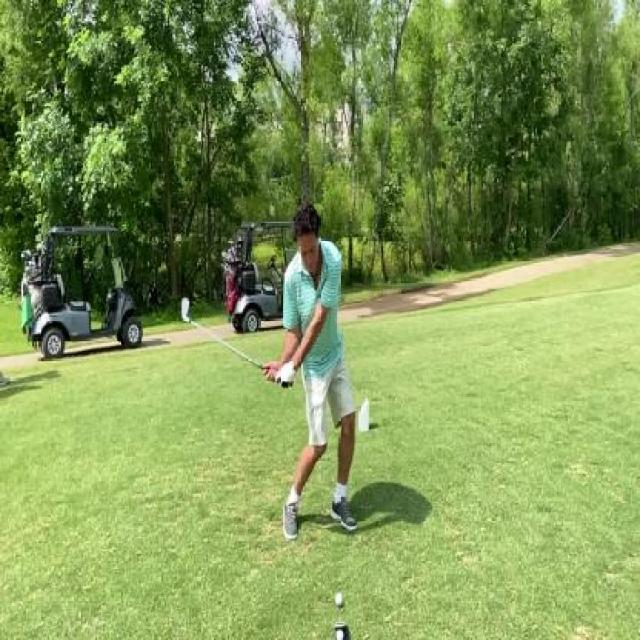club head: (180, 296, 192, 322)
